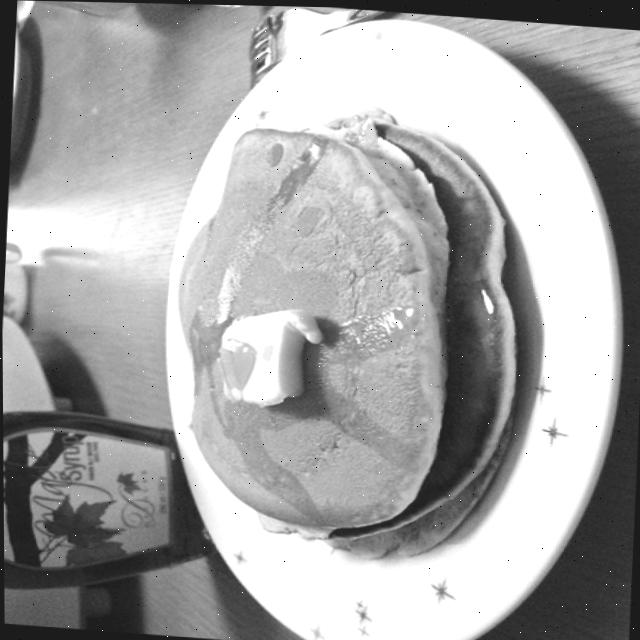蛋糕甜品: (26, 41, 631, 630)
